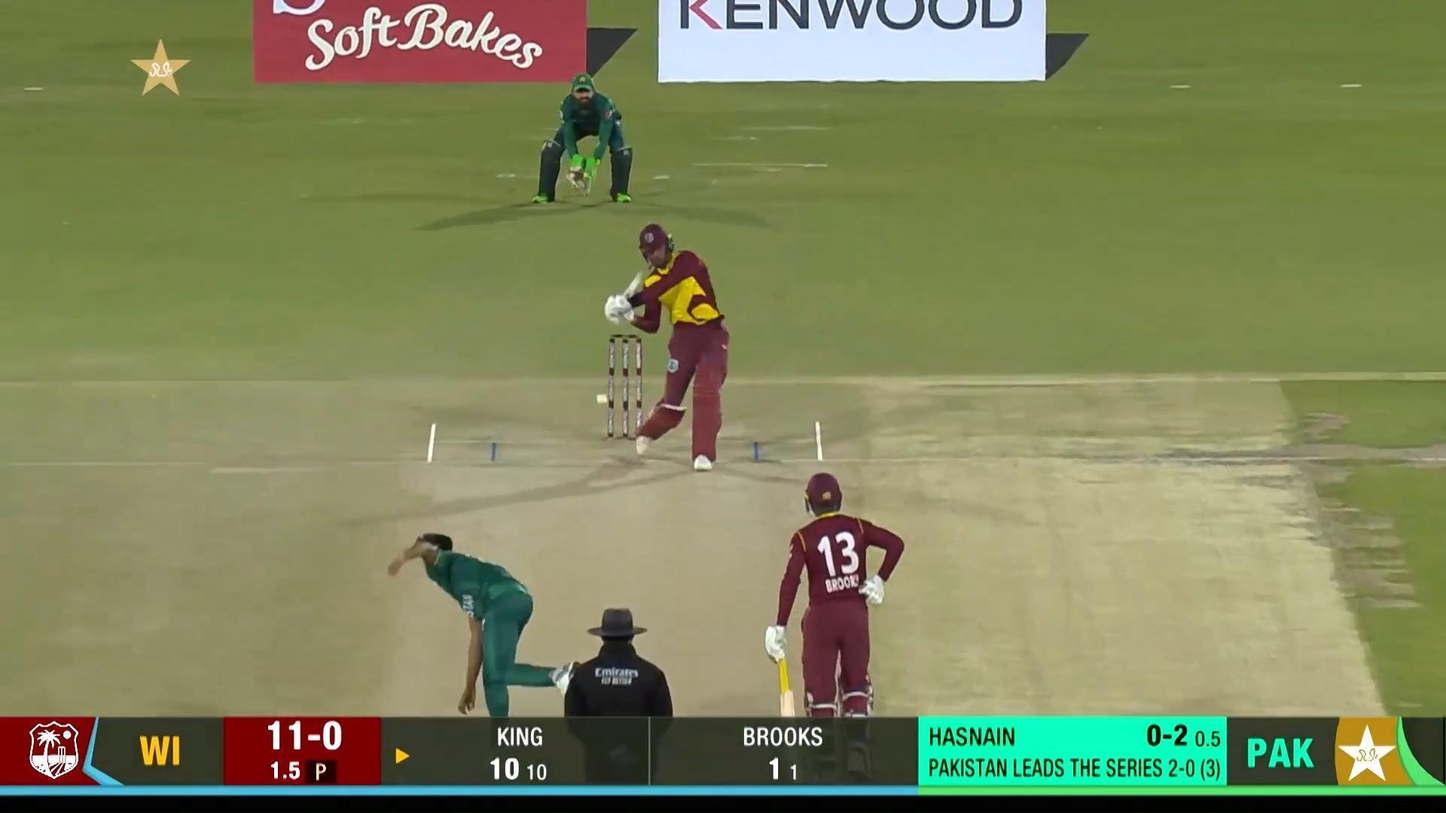BM 1: (603, 221, 730, 473)
BO: (386, 530, 580, 717)
